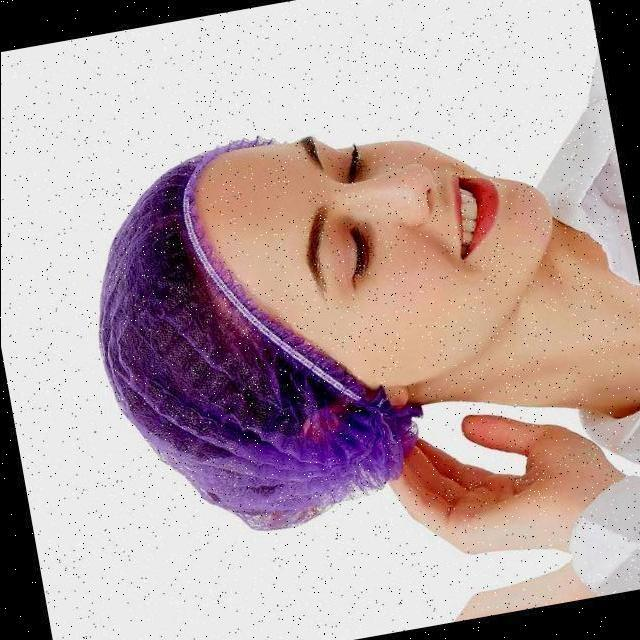gloves: (91, 128, 348, 524)
